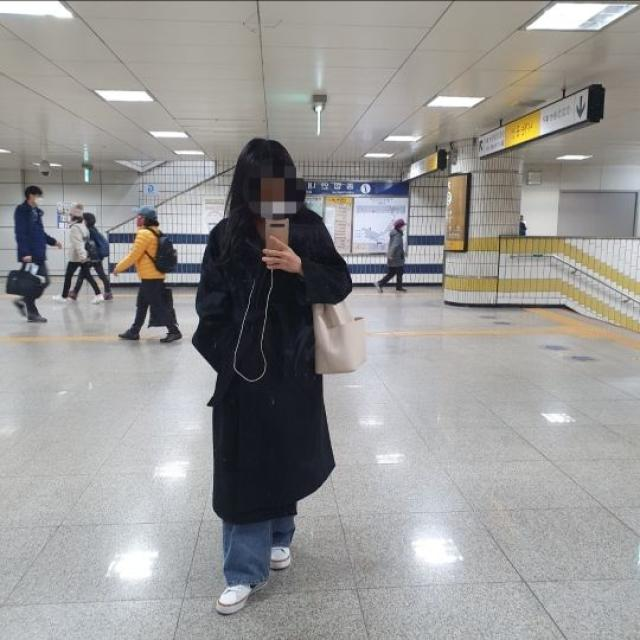coat: (192, 202, 352, 525)
denimpants: (225, 500, 297, 590)
